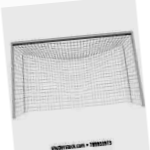goals: (9, 29, 145, 119)
